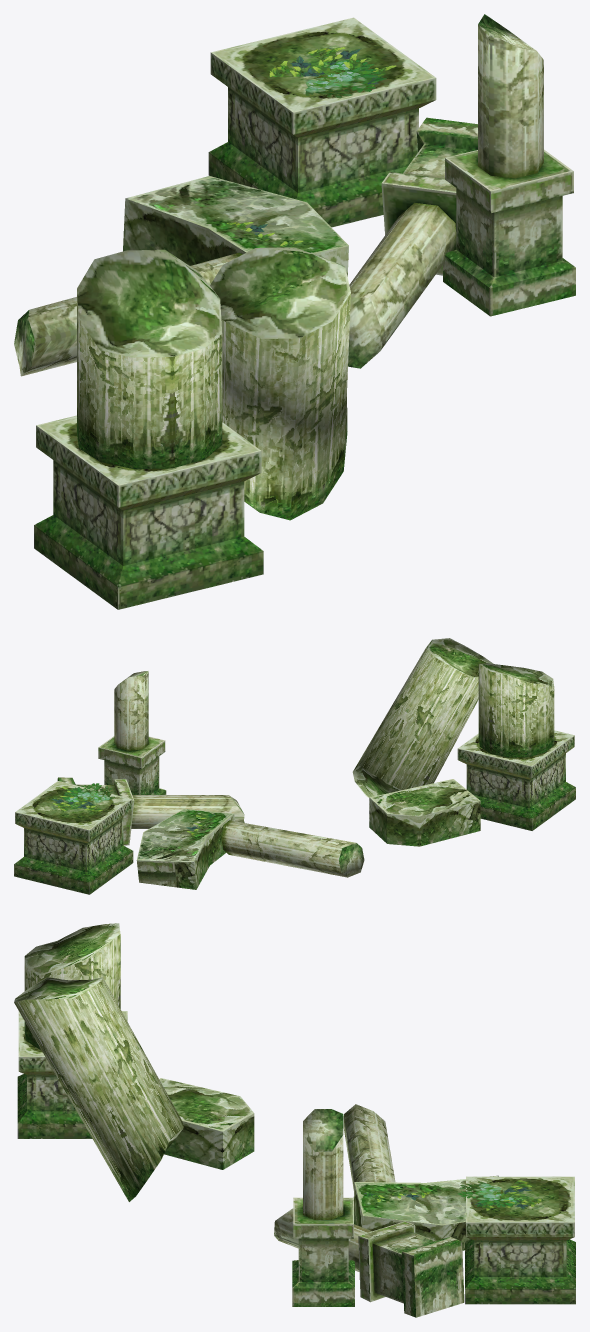
File: nml-bd180.glb
3 renders of one model, top to bottom at view 1: azimuth 30°, elevation 25°; view 2: azimuth 150°, elevation 25°; view 3: azimuth 270°, elevation 25°, orthographic. The views are drawn at different scales.
Visible parts, largest first — view 1: geom_node_0, geom_node_1; view 2: geom_node_0, geom_node_1; view 3: geom_node_1, geom_node_0.
Boxes of the visible parts, x1,y1,x2,y2 form: geom_node_0: [14, 247, 350, 609]; geom_node_1: [123, 14, 575, 368]; geom_node_0: [280, 638, 575, 877]; geom_node_1: [14, 671, 292, 894]; geom_node_1: [274, 1109, 575, 1317]; geom_node_0: [14, 923, 391, 1201].
Size of the model in its own units: 10.24 by 4.4 by 10.71.
6 materials, 6 textured.
